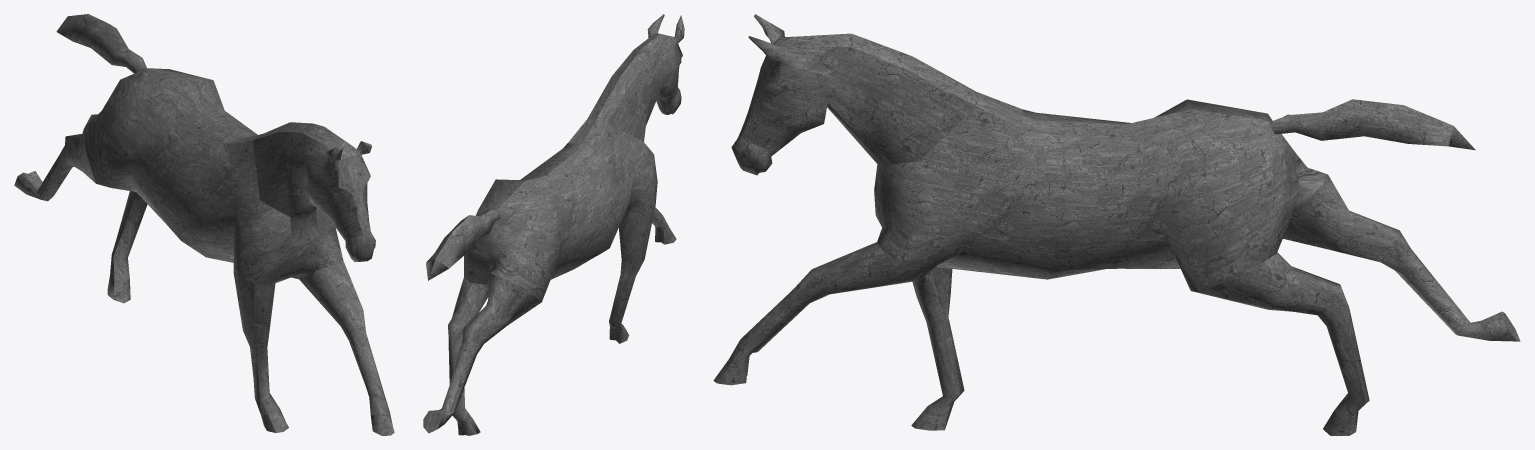
The model's file is horse_stone_dark.glb.
3 renders of one model, left to right at view 1: azimuth 30°, elevation 25°; view 2: azimuth 150°, elevation 25°; view 3: azimuth 270°, elevation 25°, orthographic. The views are drawn at different scales.
Visible parts, largest first — view 1: Mesh_0; view 2: Mesh_0; view 3: Mesh_0.
Boxes of the visible parts, box(x1,y1,x2,y2) form: Mesh_0: box(14, 14, 394, 435); Mesh_0: box(423, 14, 684, 435); Mesh_0: box(713, 14, 1520, 435).
Size of the model in its own units: 11.67 by 34.83 by 61.57.
Materials: 1 (1 with a texture image).
